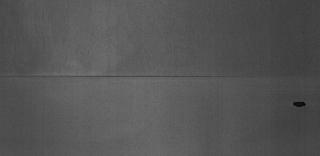punching hole: (291, 99, 307, 109)
welding line: (6, 70, 318, 82)
